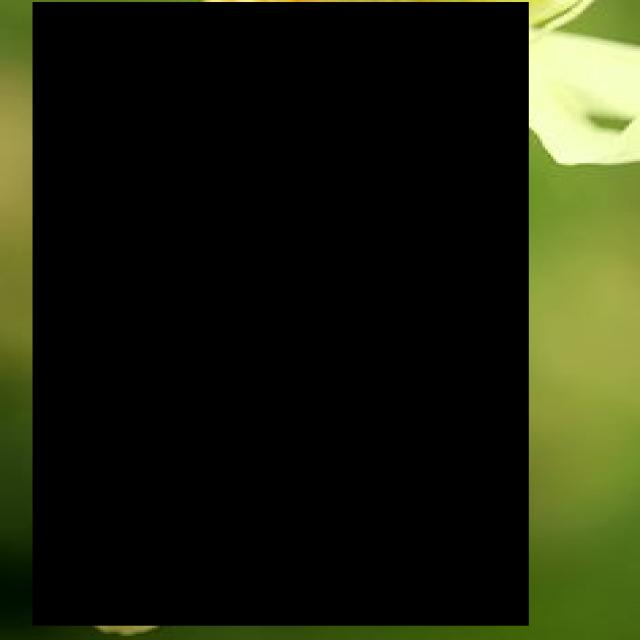Corn: (32, 2, 530, 626)
